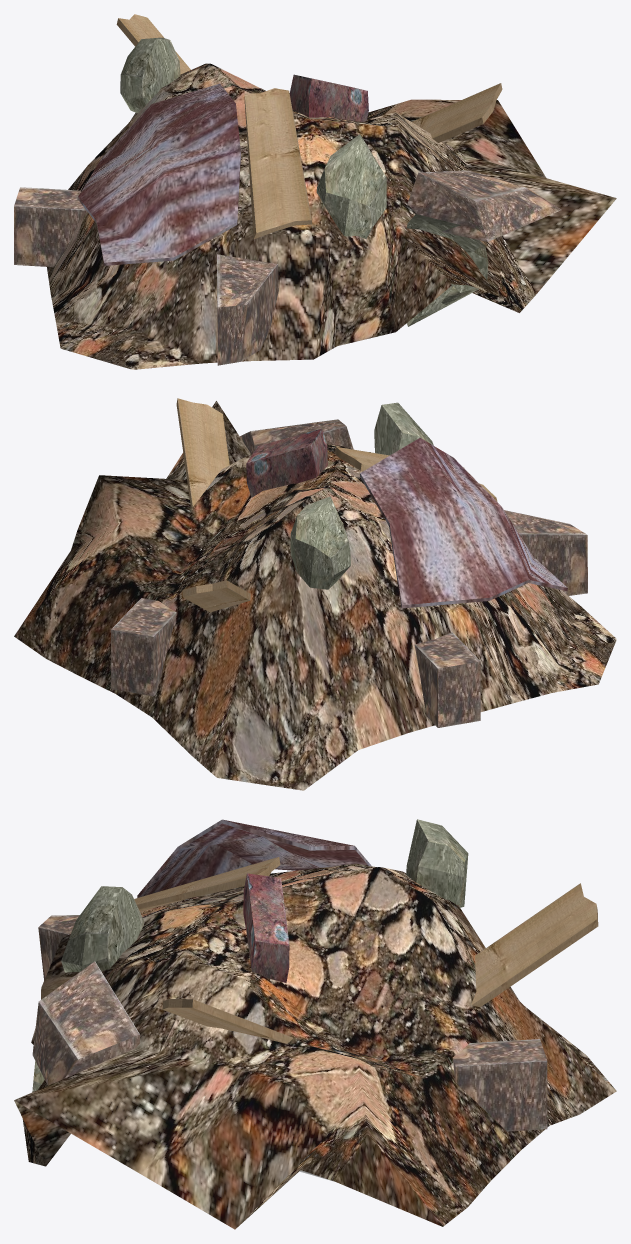
File: trash_water.fbx
3 renders of one model, top to bottom at view 1: azimuth 30°, elevation 25°; view 2: azimuth 150°, elevation 25°; view 3: azimuth 270°, elevation 25°, orthographic. The views are drawn at different scales.
Parts seen in each view (by area): view 1: Plane.003_Plane.004; view 2: Plane.003_Plane.004; view 3: Plane.003_Plane.004.
Boxes of the visible parts, box(x1,y1,x2,y2) form: Plane.003_Plane.004: box(14, 14, 616, 369); Plane.003_Plane.004: box(14, 398, 616, 790); Plane.003_Plane.004: box(14, 819, 616, 1229).
Size of the model in its own units: 378 by 170 by 353.
Materials: 1 (1 with a texture image).
